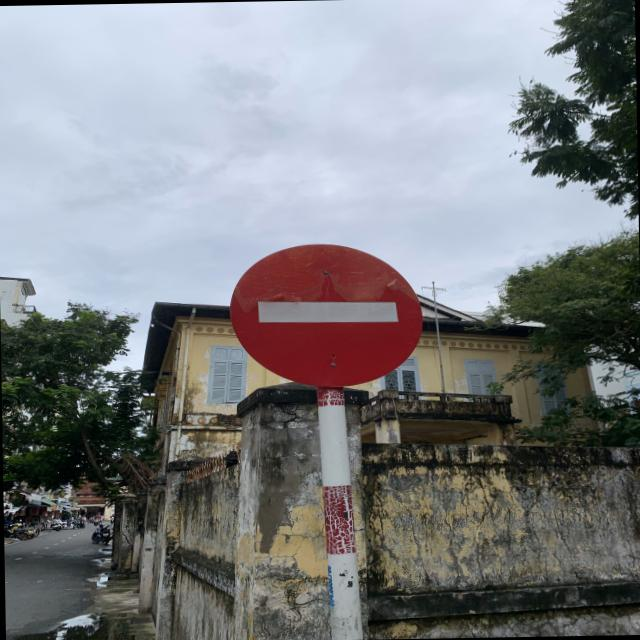Cam_Di_Nguoc_Chieu: (226, 240, 426, 390)
